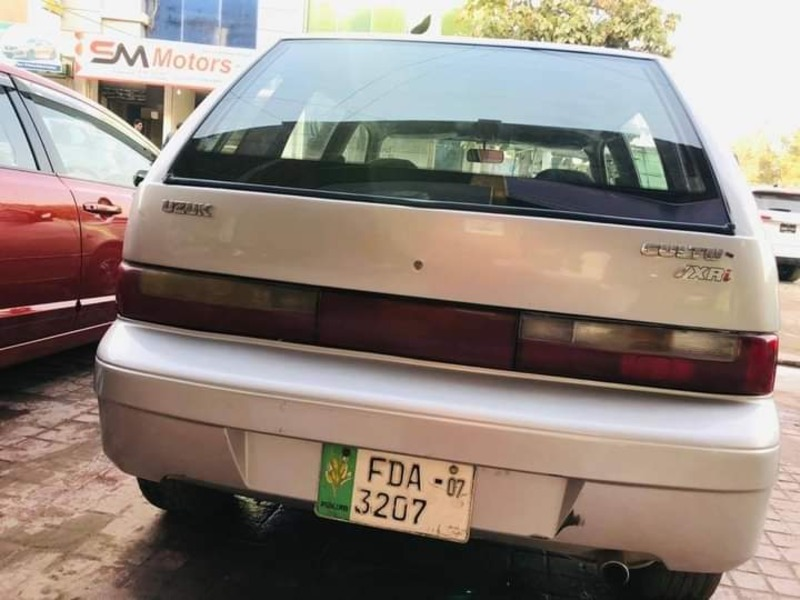License Plate: (313, 438, 476, 546)
